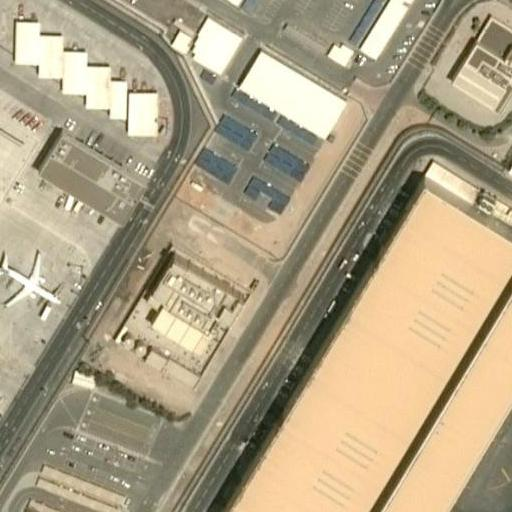Aircraft: (0, 249, 63, 310), (486, 484, 512, 512)
